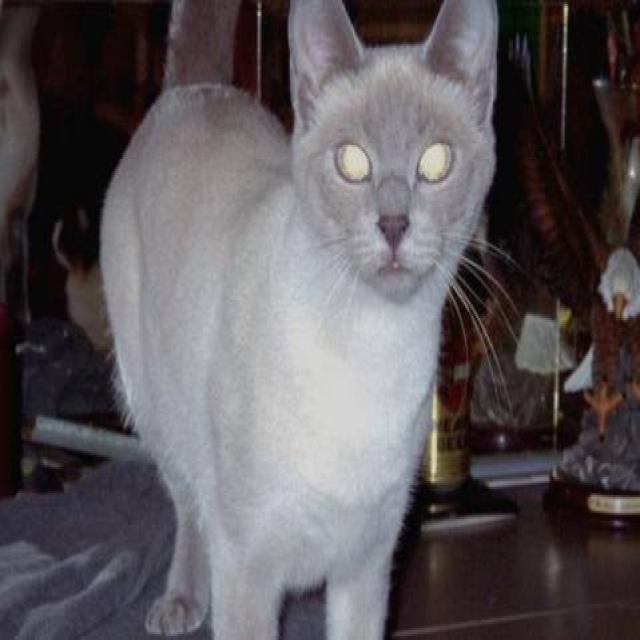cat: (98, 0, 524, 638)
